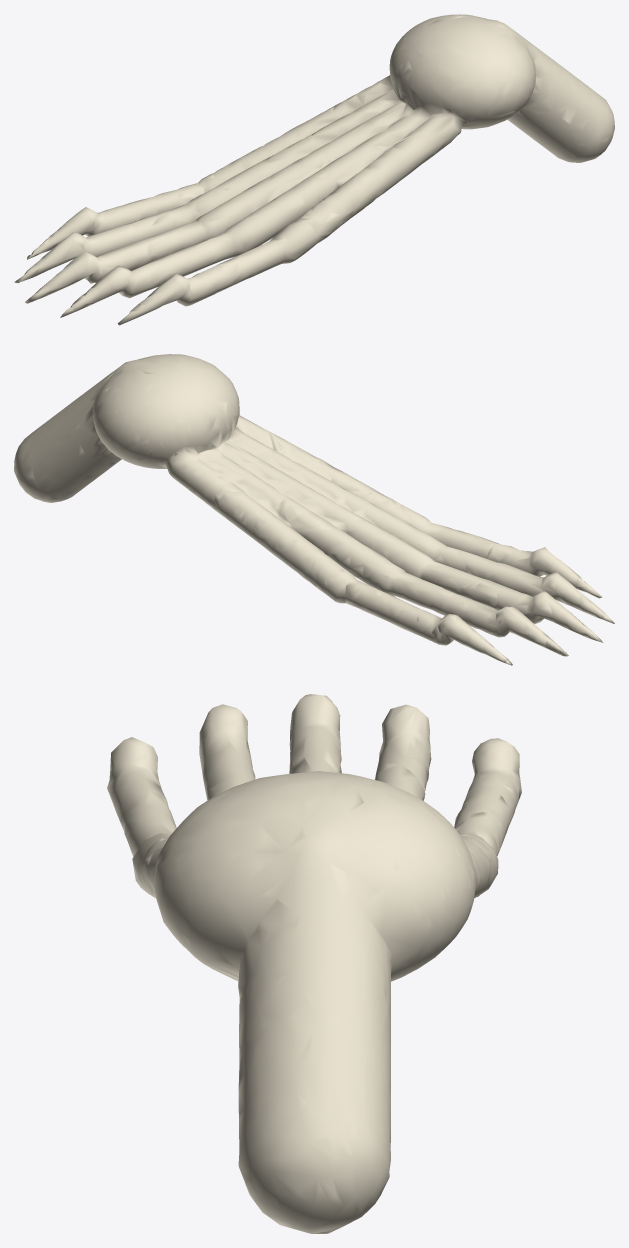
File: hindpaw_r.glb
3 views of the same model, one above another, from view 1: azimuth 30°, elevation 25°; view 2: azimuth 150°, elevation 25°; view 3: azimuth 270°, elevation 25° (orthographic). The views are drawn at different scales.
Parts seen in each view (by area): view 1: geometry_0; view 2: geometry_0; view 3: geometry_0.
Part boxes in pixels (box(x1,y1,x2,y2)): geometry_0: box(14, 14, 614, 325); geometry_0: box(14, 354, 614, 665); geometry_0: box(107, 694, 521, 1233).
Bounding box in the file's own units: 0.7153 × 0.2023 × 0.2199.
